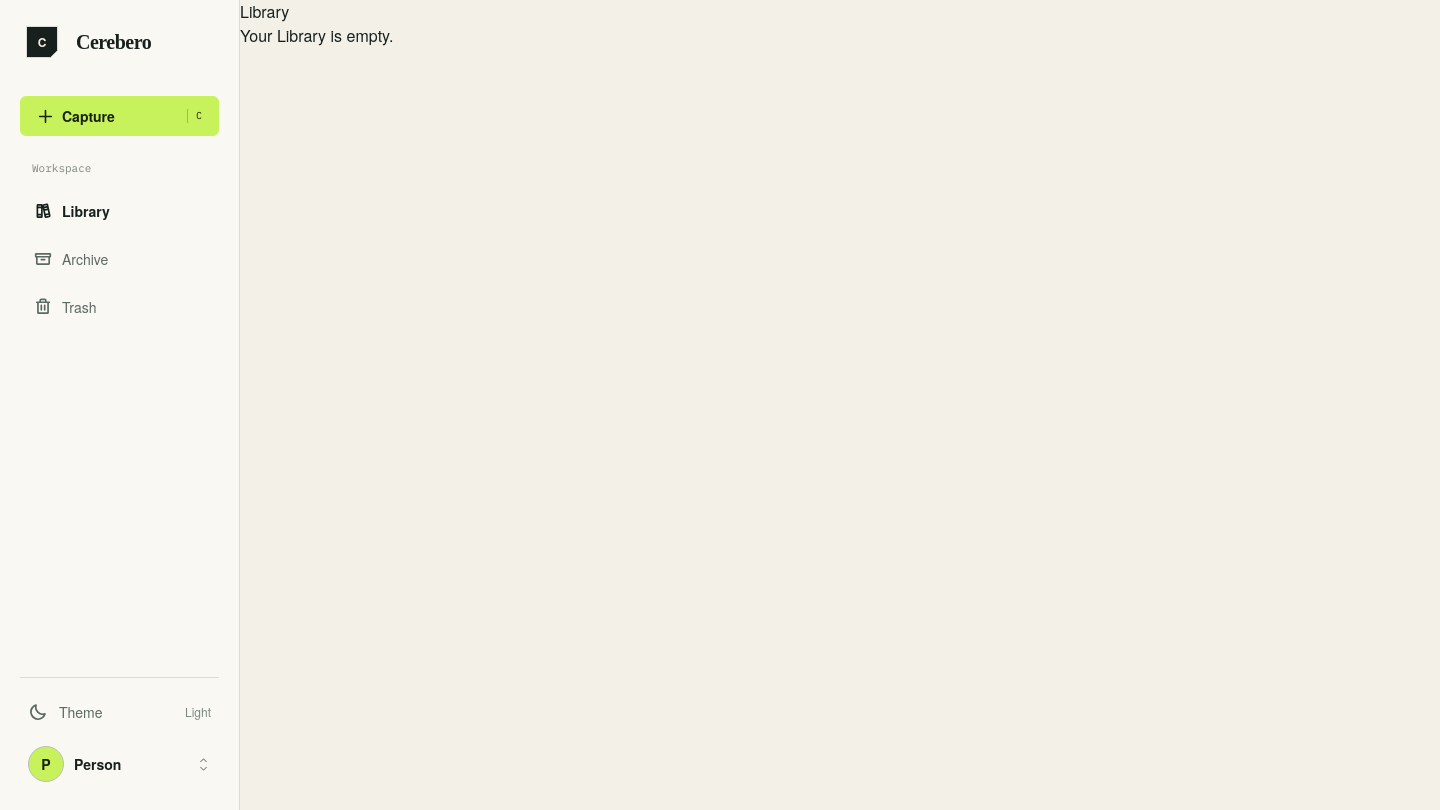
Test case: authenticated application shell › opens shortcut help with Command+/ or Control+/
The image size is (1440, 810).
Expected: the heading "Library" is shown, [240,0,289,23]
Press /
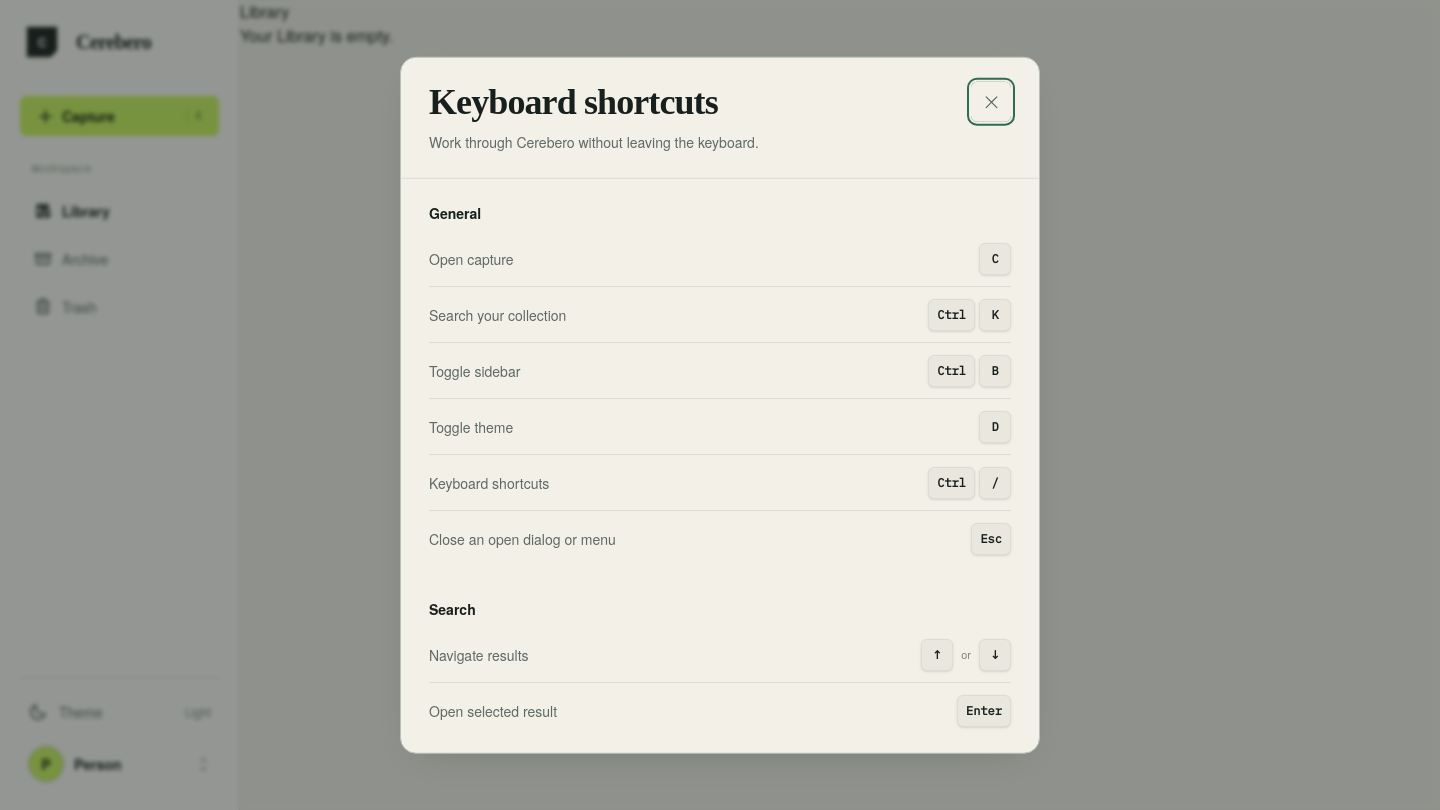
Expected: the dialog "Keyboard shortcuts" is shown, [400,57,1040,753]
Click the button named "Close keyboard shortcuts" at (991, 102), box [971,82,1011,122]
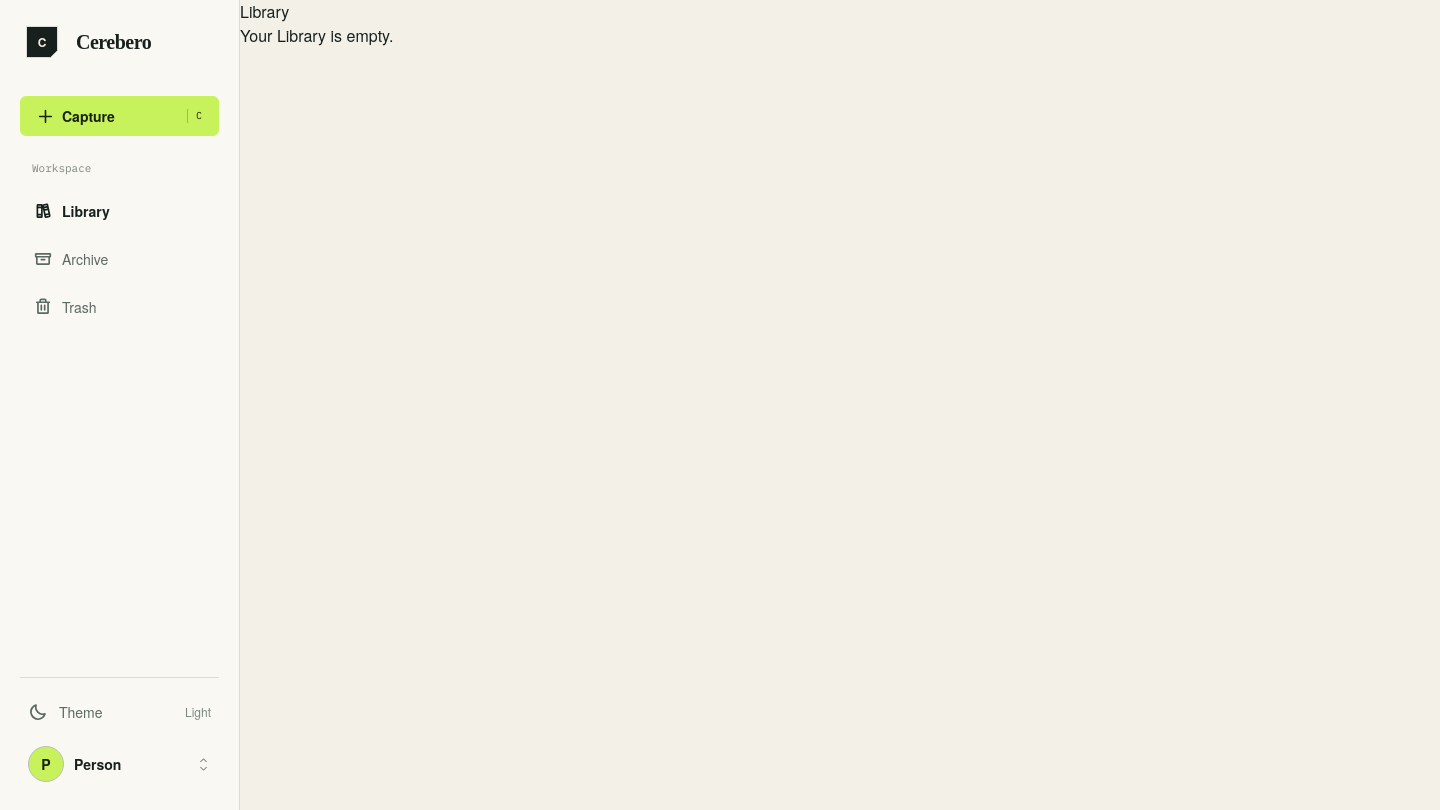
Expected: the heading "Keyboard shortcuts" is gone
Press /
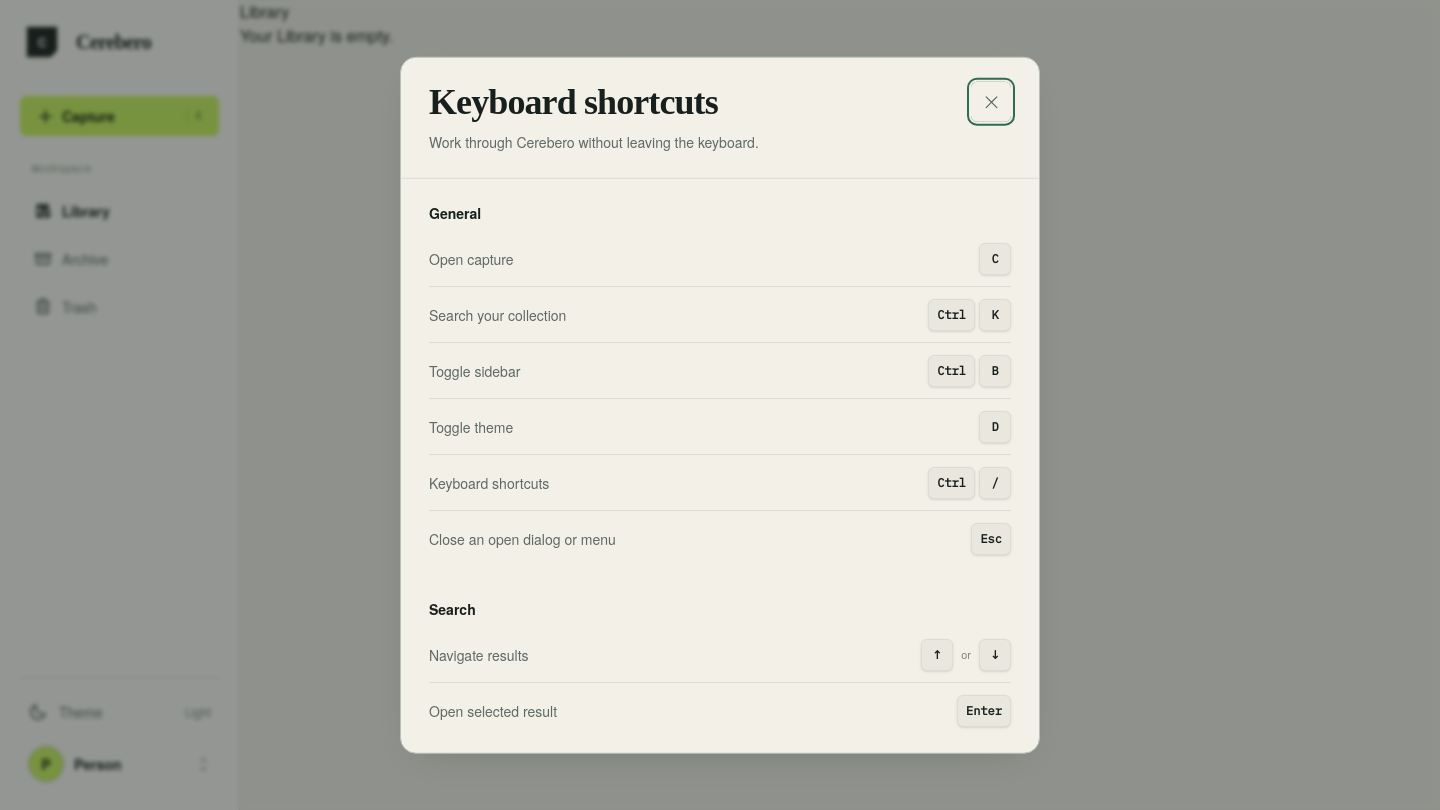
Expected: the dialog "Keyboard shortcuts" is shown, [400,57,1040,753]
